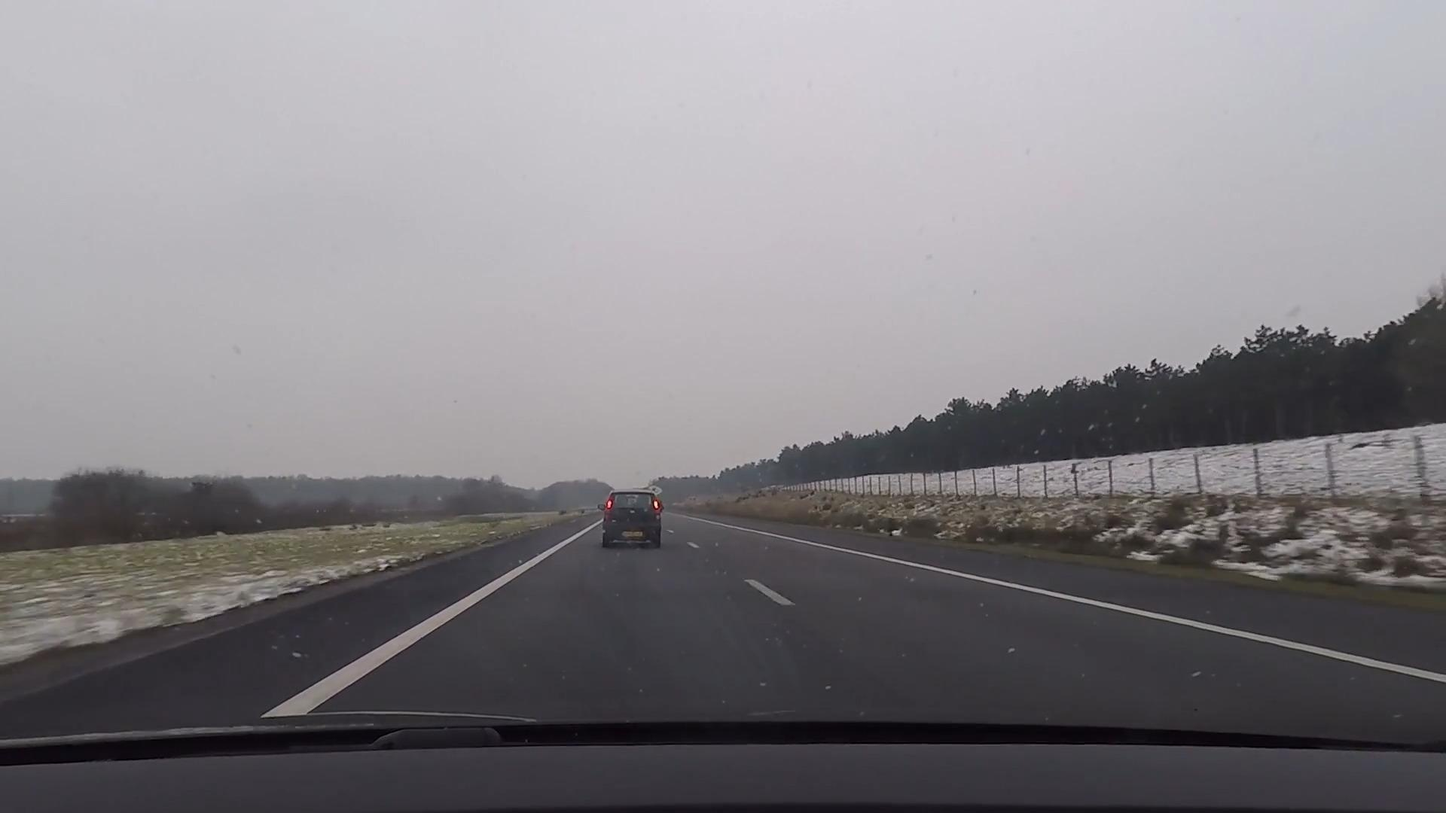Ice: (0, 507, 1446, 741)
Snow: (760, 422, 1446, 590), (0, 518, 571, 665)
